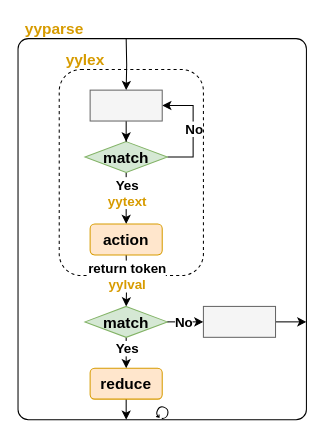
This 333x446 diagram has some shape labels left out. Each missing label, with the centre of its shape:
"shift" goes at pixel 239 321.
"yyin" goes at pixel 125 105.
